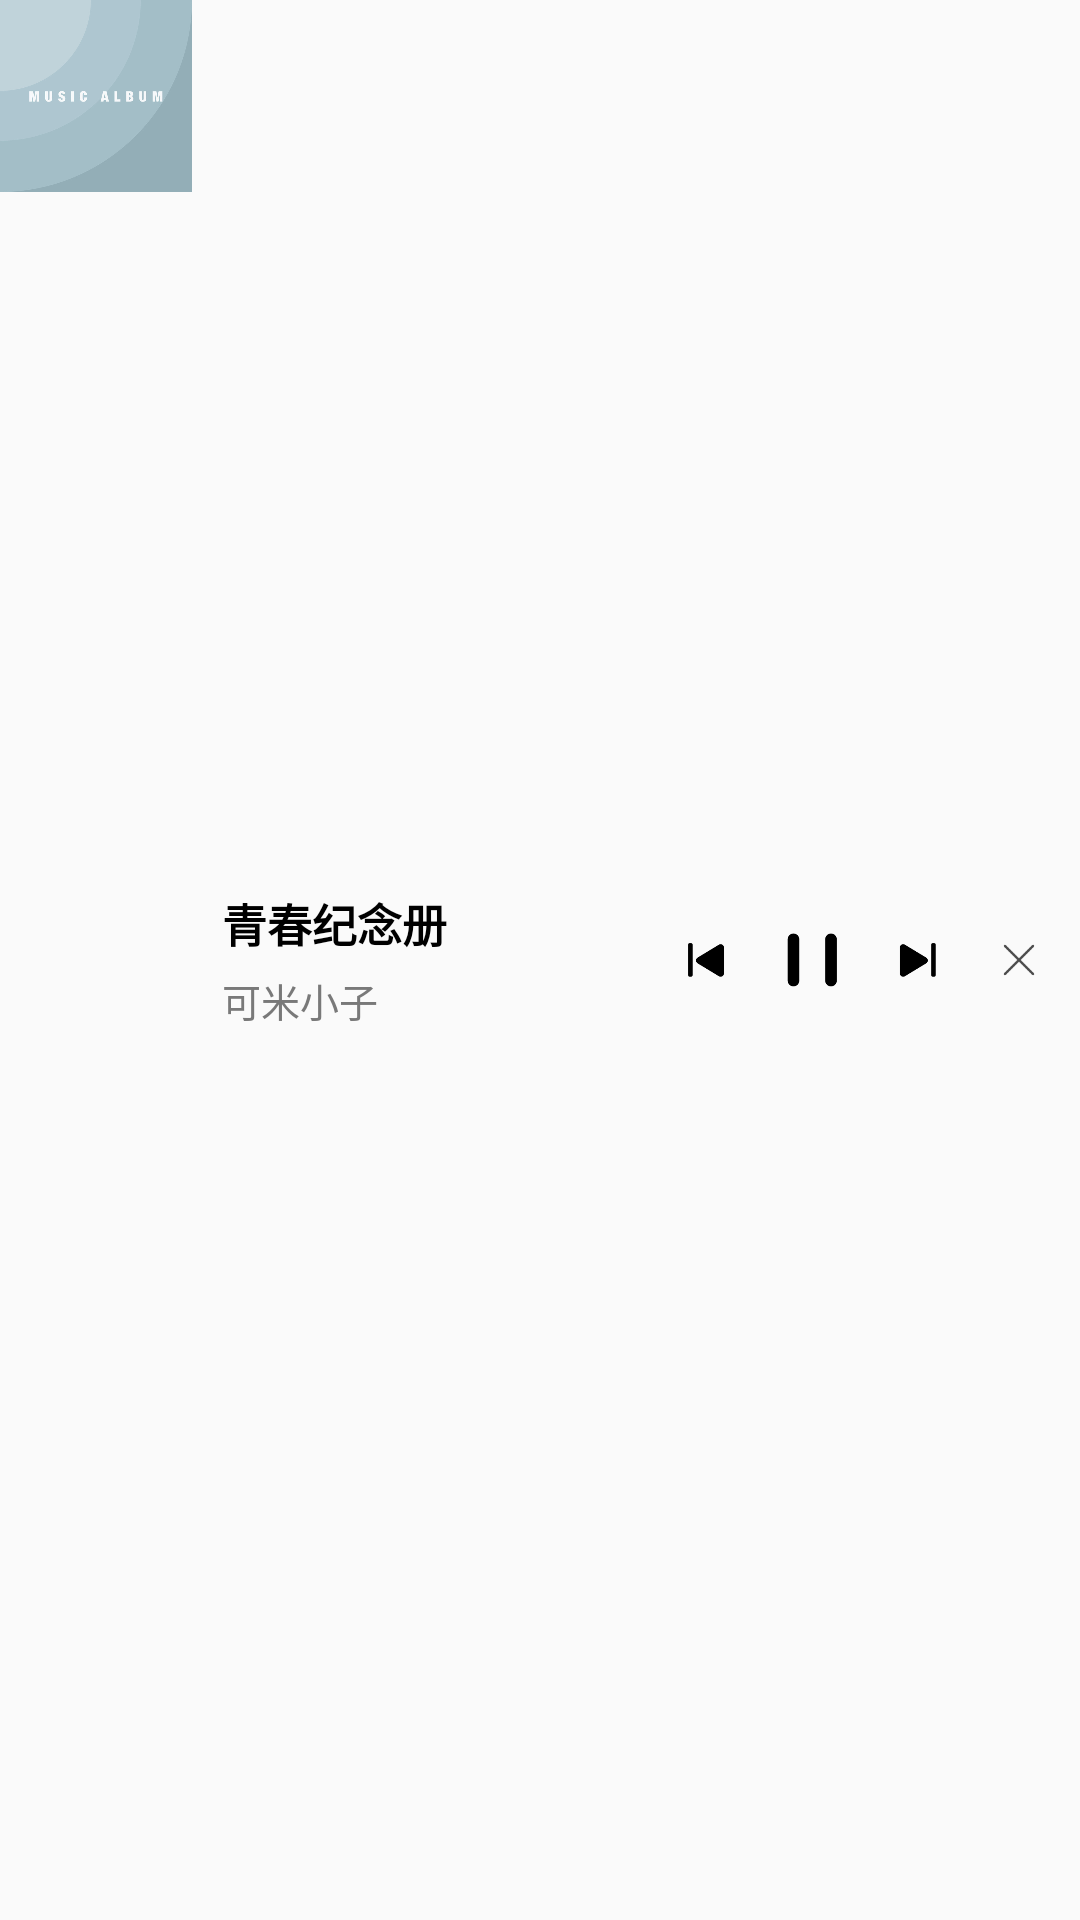

Point at icon controls on the screen. Image size 1080*1920, points as (x=x, y=y).
back: (x=706, y=960)
close: (x=1019, y=960)
defaultcover: (x=96, y=96)
next: (x=918, y=960)
